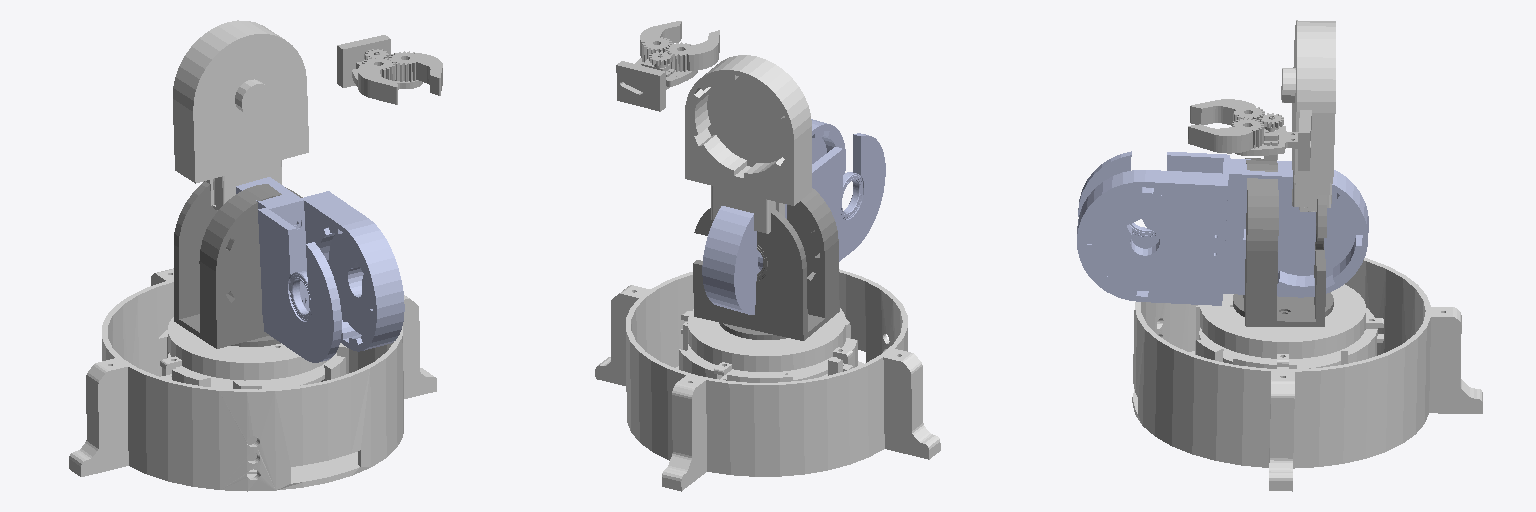
robot.urdf — robot2:
<?xml version="1.0" encoding="utf-8"?>
<!-- This URDF was automatically created by SolidWorks to URDF Exporter! Originally created by Stephen Brawner (brawner@gmail.com) 
     Commit Version: 1.6.0-4-g7f85cfe  Build Version: 1.6.7995.38578
     For more information, please see http://wiki.ros.org/sw_urdf_exporter -->
<robot
  name="robot2">
  <link
    name="base_link">
    <inertial>
      <origin
        xyz="-0.0322183375016078 -0.98862531183593 0.0594360583194767"
        rpy="0 0 0" />
      <mass
        value="1.07274260062099" />
      <inertia
        ixx="0.00553256488180712"
        ixy="3.83547631528999E-05"
        ixz="8.25731536531111E-06"
        iyy="0.00689905602430151"
        iyz="4.57074605942021E-05"
        izz="0.0111026624784099" />
    </inertial>
    <visual>
      <origin
        xyz="0 0 0"
        rpy="0 0 0" />
      <geometry>
        <mesh
          filename="package://robot2/meshes/base_link.STL" />
      </geometry>
      <material
        name="">
        <color
          rgba="0.894117647058823 0.894117647058823 0.894117647058823 1" />
      </material>
    </visual>
    <collision>
      <origin
        xyz="0 0 0"
        rpy="0 0 0" />
      <geometry>
        <mesh
          filename="package://robot2/meshes/base_link.STL" />
      </geometry>
    </collision>
  </link>
  <link
    name="1_Link">
    <inertial>
      <origin
        xyz="-0.000893978895806148 -0.00716981034106301 0.0591226768658543"
        rpy="0 0 0" />
      <mass
        value="0.387314744620052" />
      <inertia
        ixx="0.00060156312430861"
        ixy="9.983642596634E-06"
        ixz="7.04779402591561E-06"
        iyy="0.00080228997439152"
        iyz="-1.59034972374219E-05"
        izz="0.000526878986685915" />
    </inertial>
    <visual>
      <origin
        xyz="0 0 0"
        rpy="0 0 0" />
      <geometry>
        <mesh
          filename="package://robot2/meshes/1_Link.STL" />
      </geometry>
      <material
        name="">
        <color
          rgba="0.627450980392157 0.627450980392157 0.627450980392157 1" />
      </material>
    </visual>
    <collision>
      <origin
        xyz="0 0 0"
        rpy="0 0 0" />
      <geometry>
        <mesh
          filename="package://robot2/meshes/1_Link.STL" />
      </geometry>
    </collision>
  </link>
  <joint
    name="joint_1"
    type="continuous">
    <origin
      xyz="-0.0327037847686663 -0.997528688156305 0.103606170155612"
      rpy="-0.0206714410130467 0.00207951340246256 -0.0021609795475576" />
    <parent
      link="base_link" />
    <child
      link="1_Link" />
    <axis
      xyz="0 0 1" />
  </joint>
  <link
    name="2_Link">
    <inertial>
      <origin
        xyz="0.0134483125024685 0.00129612111294777 0.0746374729020768"
        rpy="0 0 0" />
      <mass
        value="0.584726831024461" />
      <inertia
        ixx="0.00135730174380076"
        ixy="-1.09961962504053E-05"
        ixz="1.26977105869488E-05"
        iyy="0.000908412819564668"
        iyz="3.8948085308373E-06"
        izz="0.00078705929332728" />
    </inertial>
    <visual>
      <origin
        xyz="0 0 0"
        rpy="0 0 0" />
      <geometry>
        <mesh
          filename="package://robot2/meshes/2_Link.STL" />
      </geometry>
      <material
        name="">
        <color
          rgba="0.792156862745098 0.819607843137255 0.933333333333333 1" />
      </material>
    </visual>
    <collision>
      <origin
        xyz="0 0 0"
        rpy="0 0 0" />
      <geometry>
        <mesh
          filename="package://robot2/meshes/2_Link.STL" />
      </geometry>
    </collision>
  </link>
  <joint
    name="joint_2"
    type="continuous">
    <origin
      xyz="0 0.015625 0.0825"
      rpy="0.0021242 0.020667 -1.5686" />
    <parent
      link="1_Link" />
    <child
      link="2_Link" />
    <axis
      xyz="-0.0032985 -0.99835 0.057269" />
  </joint>
  <link
    name="3_Link">
    <inertial>
      <origin
        xyz="0.00372945265281133 0.0311015955890755 -0.00175980616662058"
        rpy="0 0 0" />
      <mass
        value="0.313159041606282" />
      <inertia
        ixx="0.000733461248743681"
        ixy="-2.38956888402887E-05"
        ixz="6.85329987639191E-06"
        iyy="0.00032249914835598"
        iyz="1.09221879021E-05"
        izz="0.000474219295280122" />
    </inertial>
    <visual>
      <origin
        xyz="0 0 0"
        rpy="0 0 0" />
      <geometry>
        <mesh
          filename="package://robot2/meshes/3_Link.STL" />
      </geometry>
      <material
        name="">
        <color
          rgba="0.894117647058823 0.894117647058823 0.894117647058823 1" />
      </material>
    </visual>
    <collision>
      <origin
        xyz="0 0 0"
        rpy="0 0 0" />
      <geometry>
        <mesh
          filename="package://robot2/meshes/3_Link.STL" />
      </geometry>
    </collision>
  </link>
  <joint
    name="joint_3"
    type="continuous">
    <origin
      xyz="-0.0027307 0.0034052 0.13243"
      rpy="0 0 0" />
    <parent
      link="2_Link" />
    <child
      link="3_Link" />
    <axis
      xyz="-0.0032985 -0.99835 0.057269" />
  </joint>
  <link
    name="4_Link">
    <inertial>
      <origin
        xyz="-0.00755719271614858 -0.0340849150457781 0.00099270575605892"
        rpy="0 0 0" />
      <mass
        value="0.0680040119308716" />
      <inertia
        ixx="2.78529438777793E-05"
        ixy="-9.87542329571313E-07"
        ixz="-9.23985698380707E-07"
        iyy="1.07216809580402E-05"
        iyz="1.01410483921051E-07"
        izz="2.23313021741013E-05" />
    </inertial>
    <visual>
      <origin
        xyz="0 0 0"
        rpy="0 0 0" />
      <geometry>
        <mesh
          filename="package://robot2/meshes/4_Link.STL" />
      </geometry>
      <material
        name="">
        <color
          rgba="0.8 0.8 0.8 1" />
      </material>
    </visual>
    <collision>
      <origin
        xyz="0 0 0"
        rpy="0 0 0" />
      <geometry>
        <mesh
          filename="package://robot2/meshes/4_Link.STL" />
      </geometry>
    </collision>
  </link>
  <joint
    name="joint_4"
    type="continuous">
    <origin
      xyz="0.0067243 0.11542 0.0044174"
      rpy="0 -1.5708 0" />
    <parent
      link="3_Link" />
    <child
      link="4_Link" />
    <axis
      xyz="0 0 0" />
  </joint>
</robot>

--- Render facts (derived) ---
Views: 3 orthographic renders of the robot side by side, from view 1: azimuth 30°, elevation 25°; view 2: azimuth 150°, elevation 25°; view 3: azimuth 270°, elevation 25°.
Model robot2 with 5 links and 4 joints (4 continuous), rooted at base_link, posed every joint at zero.
Links seen in each view (by area): view 1: base_link, 2_Link, 3_Link, 1_Link, 4_Link; view 2: base_link, 3_Link, 1_Link, 2_Link, 4_Link; view 3: base_link, 2_Link, 1_Link, 3_Link, 4_Link.
Link boxes in pixels (x1,y1,x2,y2): base_link: (69,268,436,491); 2_Link: (236,177,404,362); 3_Link: (173,20,308,210); 1_Link: (174,179,302,348); 4_Link: (337,35,442,104); base_link: (595,269,940,491); 3_Link: (685,55,811,233); 1_Link: (693,188,839,340); 2_Link: (702,119,885,314); 4_Link: (616,21,719,111); base_link: (1132,258,1482,491); 2_Link: (1077,151,1368,305); 1_Link: (1233,158,1333,326); 3_Link: (1281,20,1335,211); 4_Link: (1188,99,1311,170).
Bounding box of the posed robot: 0.34 × 0.3419 × 0.3573 m (x, y, z).
Meshes: 5 distinct files referenced, 5 mesh visuals loaded (5 binary STL).
